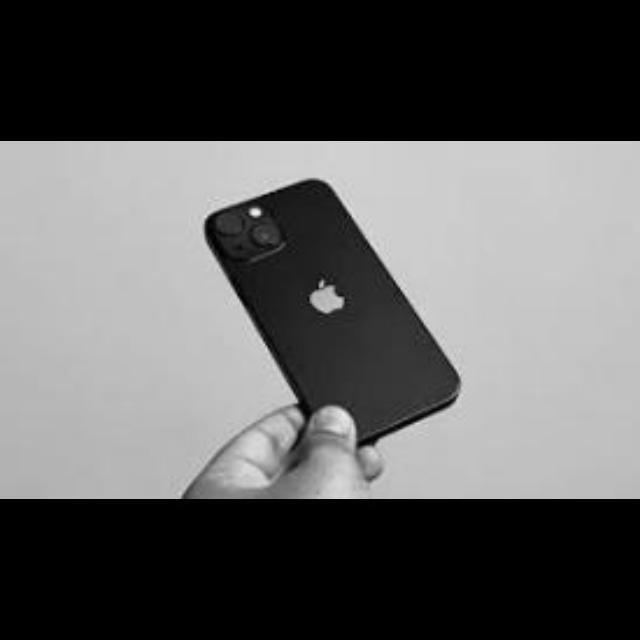fake: (199, 182, 462, 434)
